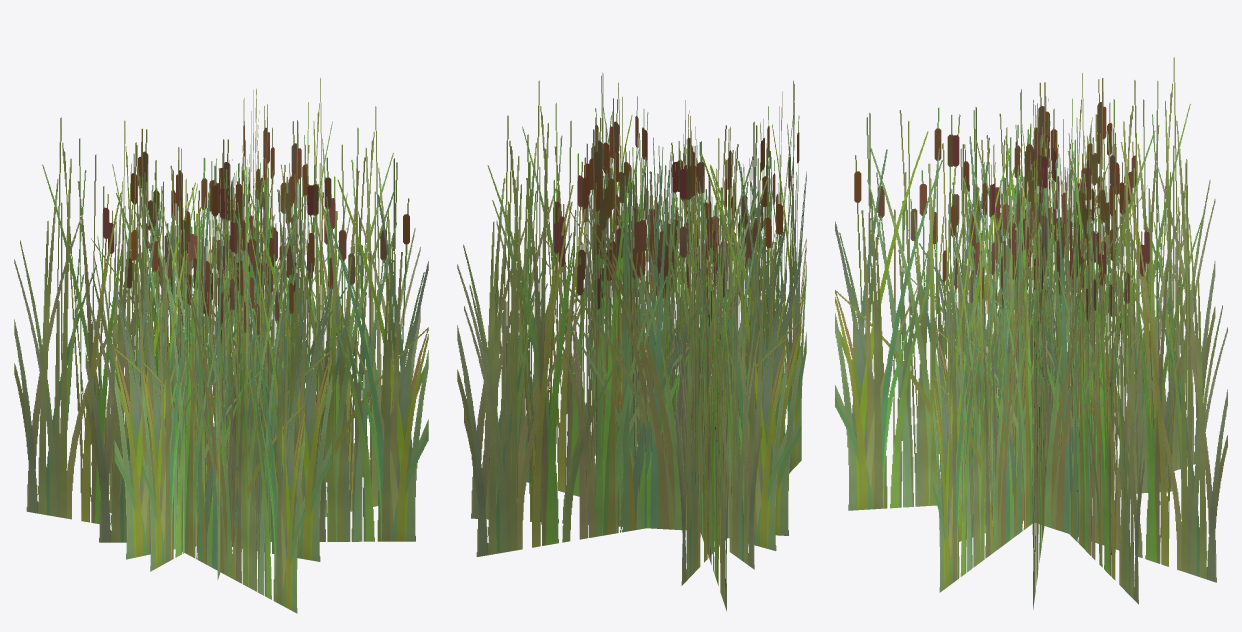
The model's file is Reed_1.gltf.
The picture shows the model from 3 angles, left to right: view 1: azimuth 30°, elevation 25°; view 2: azimuth 150°, elevation 25°; view 3: azimuth 270°, elevation 25°; orthographic projection. The views are drawn at different scales.
Parts seen in each view (by area): view 1: Reed_1; view 2: Reed_1; view 3: Reed_1.
Part boxes in pixels (x1,y1,x2,y2): Reed_1: (14,78,428,613); Reed_1: (457,72,806,611); Reed_1: (835,57,1227,609).
Size of the model in its own units: 1.5 by 1.93 by 1.55.
1 material, 1 textured.
